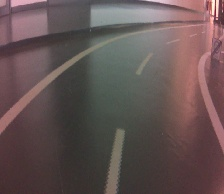zone 30 stop sign: (209, 36, 223, 63)
